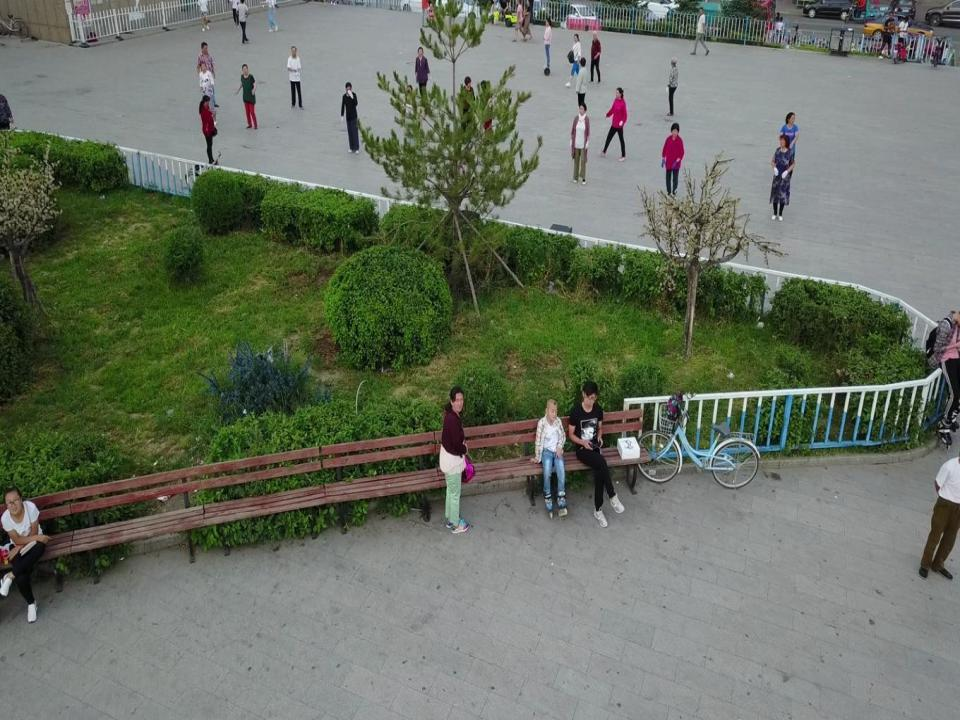car: (864, 13, 934, 43), (636, 0, 684, 24), (560, 3, 600, 30), (802, 0, 858, 17), (923, 0, 959, 24), (896, 0, 915, 24)
